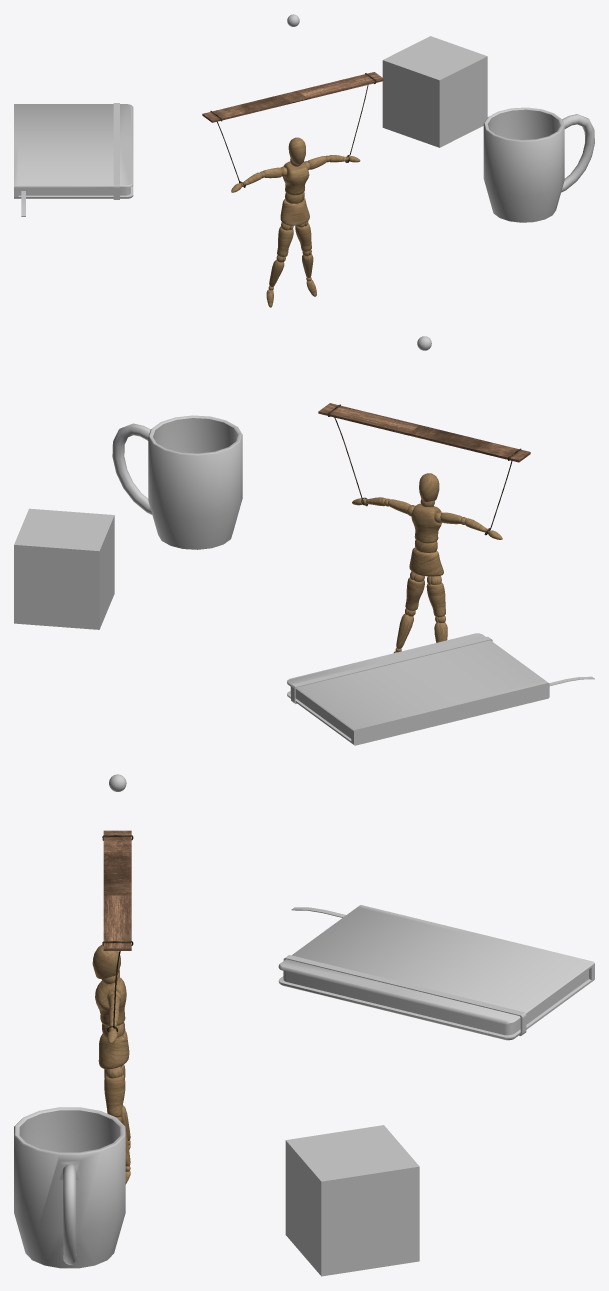
The model's file is ragdoll.fbx.
3 renders of one model, top to bottom at view 1: azimuth 30°, elevation 25°; view 2: azimuth 150°, elevation 25°; view 3: azimuth 270°, elevation 25°, orthographic. The views are drawn at different scales.
Parts seen in each view (by area): view 1: notebook, rubiks_cube, mug, crosshead, chest, hip, head; view 2: notebook, mug, rubiks_cube, crosshead, chest, hip; view 3: notebook, rubiks_cube, mug, crosshead, hip, chest, thighL, head.
Part boxes in pixels (<box>): notebook: <box>14,103,133,216</box>; rubiks_cube: <box>382,36,487,147</box>; mug: <box>483,107,594,222</box>; crosshead: <box>202,72,384,122</box>; chest: <box>283,161,309,195</box>; hip: <box>280,198,309,225</box>; head: <box>288,137,305,164</box>; notebook: <box>287,633,594,745</box>; mug: <box>112,415,242,549</box>; rubiks_cube: <box>14,508,114,629</box>; crosshead: <box>318,403,530,462</box>; chest: <box>411,503,442,543</box>; hip: <box>409,547,443,576</box>; notebook: <box>278,905,594,1040</box>; rubiks_cube: <box>285,1125,419,1276</box>; mug: <box>14,1107,125,1268</box>; crosshead: <box>103,830,131,950</box>; hip: <box>98,1030,129,1069</box>; chest: <box>95,977,126,1026</box>; thighL: <box>104,1074,125,1117</box>; head: <box>92,944,120,978</box>.
Size of what is drawn, in the model's own units: 5.73 by 3.19 by 4.16.
